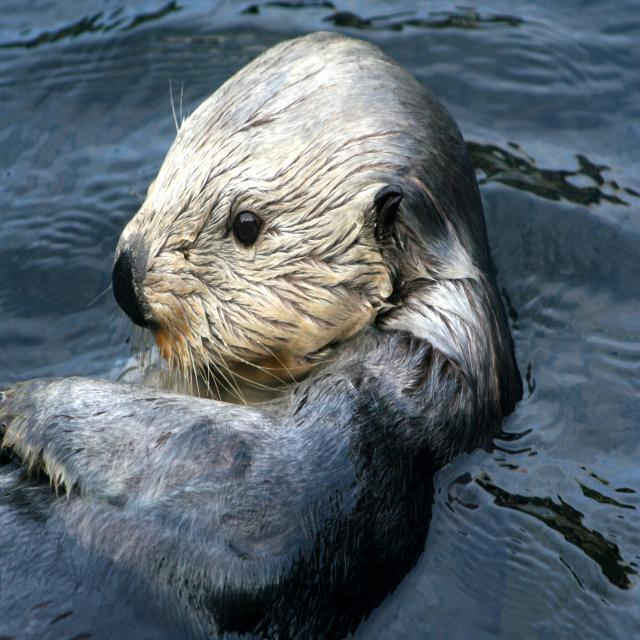otter: (1, 33, 520, 596)
